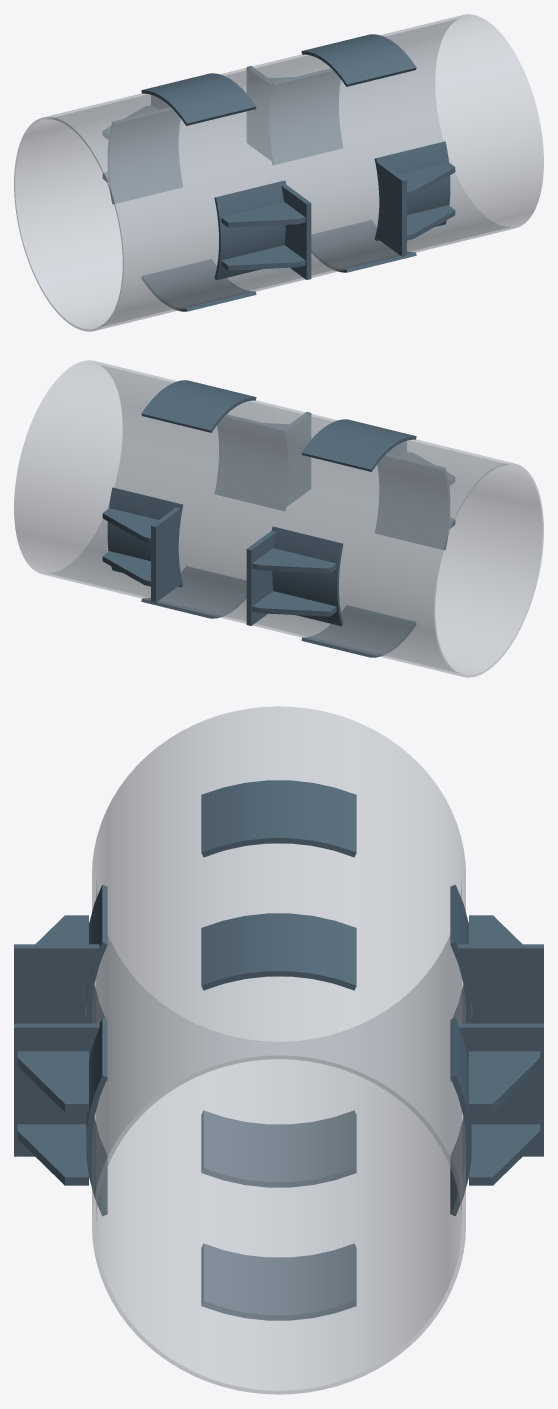
Rendered from TS-663.00.00-06-opora-dn630.glb.
3 renders of one model, top to bottom at view 1: azimuth 30°, elevation 25°; view 2: azimuth 150°, elevation 25°; view 3: azimuth 270°, elevation 25°, orthographic. The views are drawn at different scales.
Parts seen in each view (by area): view 1: truba, det_16, det_12, det_8, det_18, det_17, det_20, det_19, det_4, det_1, det_9, det_5 (+4 smaller); view 2: truba, det_8, det_4, det_16, det_18, det_17, det_20, det_19, det_12, det_9, det_1, det_13 (+4 smaller); view 3: truba, det_18, det_17, det_20, det_19, det_5, det_13, det_1, det_9, det_2, det_11, det_3 (+7 smaller).
Boxes of the visible parts, box(x1,y1,x2,y2) form: truba: box(14, 14, 543, 331); det_16: box(108, 107, 182, 204); det_12: box(268, 68, 342, 164); det_8: box(214, 180, 286, 280); det_18: box(141, 73, 256, 125); det_17: box(301, 34, 416, 86); det_20: box(142, 259, 256, 311); det_19: box(311, 220, 416, 272); det_4: box(374, 141, 450, 241); det_1: box(377, 161, 406, 256); det_9: box(246, 66, 272, 160); det_5: box(281, 184, 311, 279); truba: box(14, 360, 543, 677); det_8: box(375, 453, 449, 550); det_4: box(215, 414, 289, 510); det_16: box(271, 526, 343, 626); det_18: box(301, 419, 416, 471); det_17: box(141, 380, 256, 432); det_20: box(301, 605, 415, 657); det_19: box(141, 566, 246, 618); det_12: box(107, 487, 183, 587); det_9: box(151, 507, 180, 602); det_1: box(285, 412, 311, 506); det_13: box(246, 530, 276, 625); truba: box(92, 706, 465, 1394); det_18: box(201, 780, 356, 857); det_17: box(201, 913, 356, 990); det_20: box(201, 1110, 356, 1187); det_19: box(201, 1243, 356, 1320); det_5: box(14, 944, 99, 1023); det_13: box(458, 944, 543, 1023); det_1: box(14, 1023, 99, 1156); det_9: box(458, 1023, 543, 1156); det_2: box(17, 1051, 88, 1112); det_11: box(469, 1051, 540, 1112); det_3: box(17, 1124, 88, 1185).
Bounding box in the file's own units: 1390 × 649 × 892.
